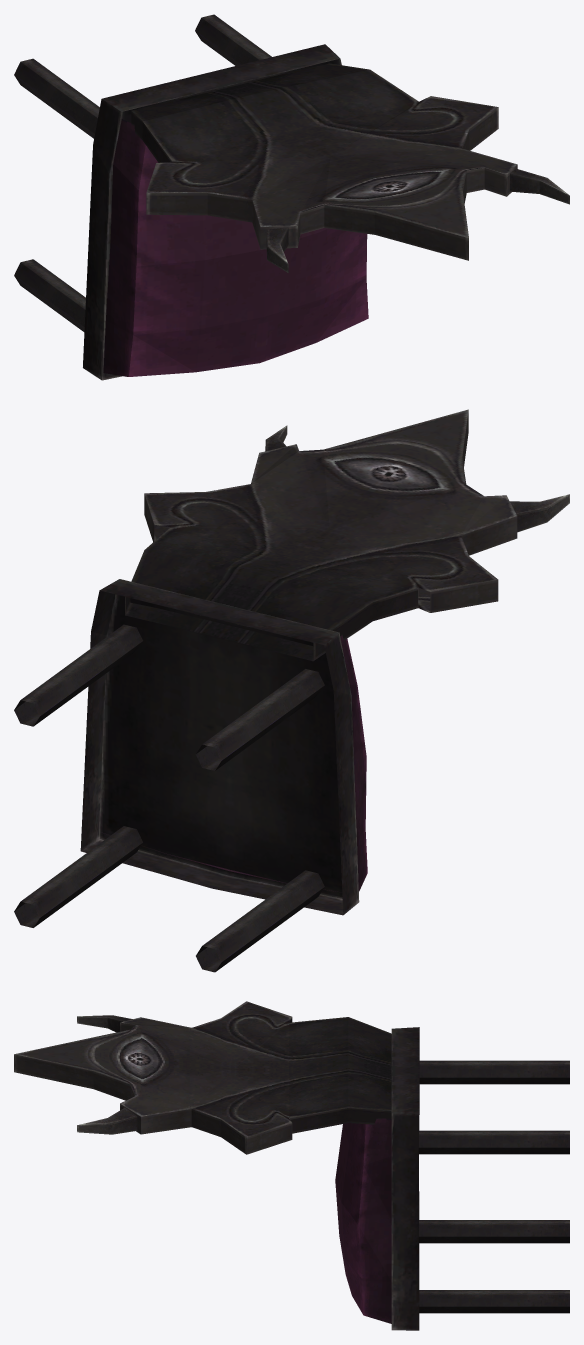
The model's file is juqing_fuben_254_yizi_01.obj.
The picture shows the model from 3 angles, top to bottom: view 1: azimuth 30°, elevation 25°; view 2: azimuth 150°, elevation 25°; view 3: azimuth 270°, elevation 25°; orthographic projection. The views are drawn at different scales.
Parts seen in each view (by area): view 1: juqing_fuben_254_yizi_01; view 2: juqing_fuben_254_yizi_01; view 3: juqing_fuben_254_yizi_01.
Boxes of the visible parts, x1,y1,x2,y2 form: juqing_fuben_254_yizi_01: [14, 14, 569, 380]; juqing_fuben_254_yizi_01: [14, 409, 569, 972]; juqing_fuben_254_yizi_01: [14, 1001, 569, 1330].
Size of the model in its own units: 48.57 by 38.22 by 83.7.
Materials: 1 (1 with a texture image).
